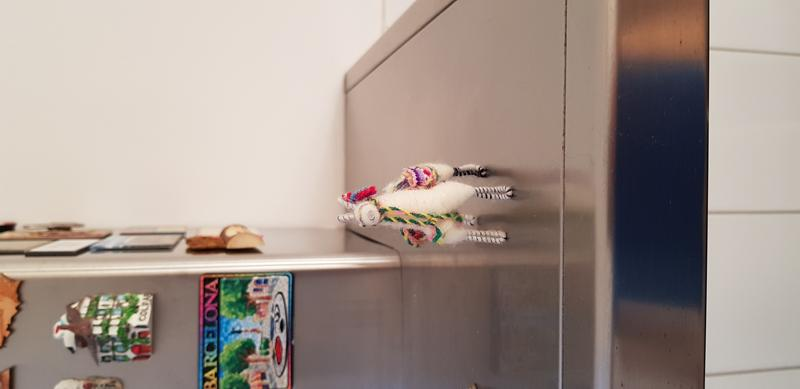Horse-Toy: (326, 157, 529, 260)
